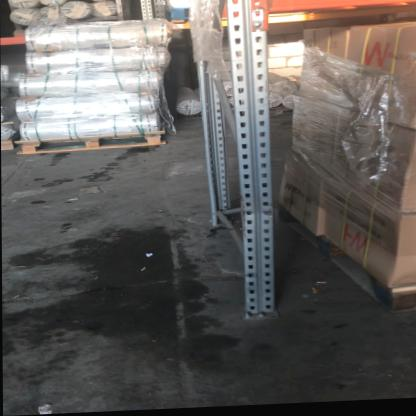vertical_damage: (238, 193, 283, 237)
